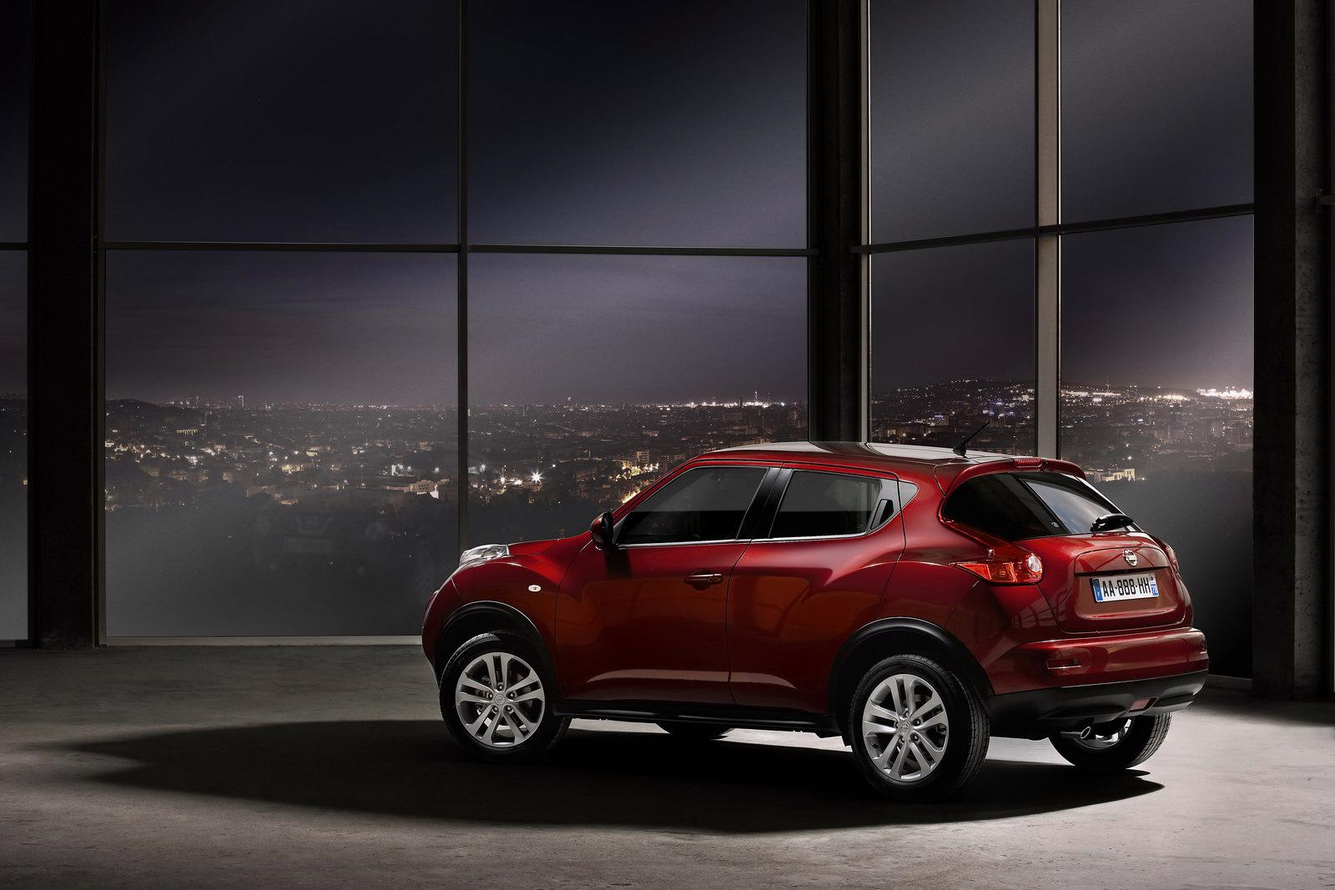Car: (396, 411, 1241, 840)
